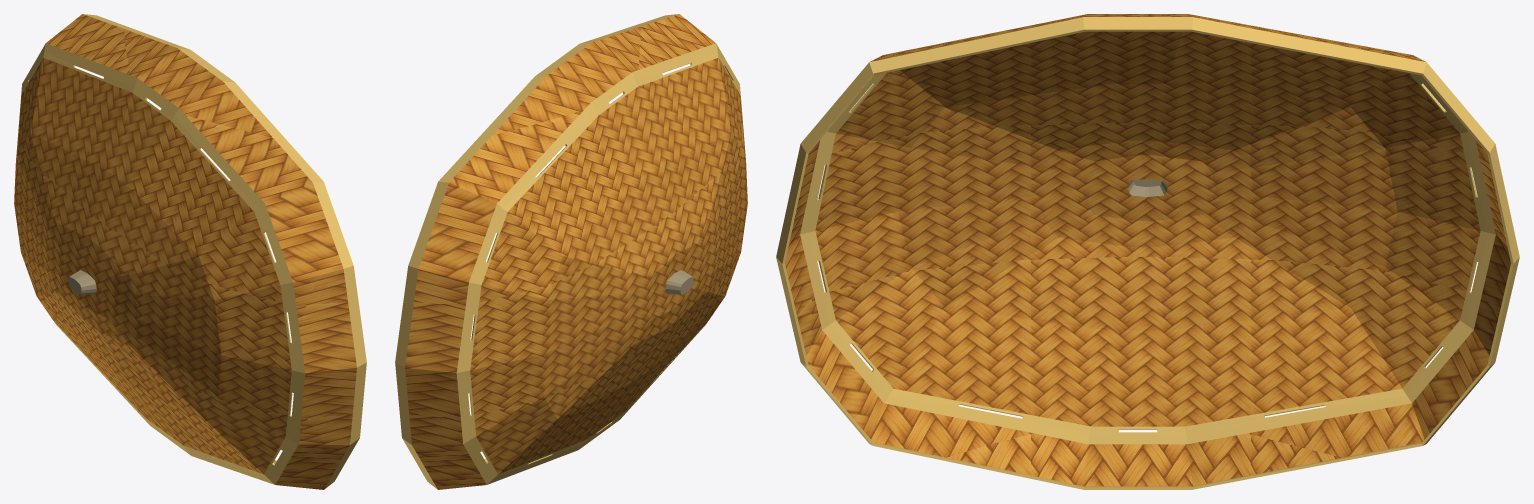
Rendered from tudung saji.fbx.
3 views of the same model, side by side, from view 1: azimuth 30°, elevation 25°; view 2: azimuth 150°, elevation 25°; view 3: azimuth 270°, elevation 25° (orthographic). The views are drawn at different scales.
Parts seen in each view (by area): view 1: tudung saji; view 2: tudung saji; view 3: tudung saji.
Part boxes in pixels (left/top/right/bottom): tudung saji: left=14, top=14, right=366, bottom=489; tudung saji: left=395, top=14, right=747, bottom=489; tudung saji: left=776, top=14, right=1519, bottom=489.
Size of the model in its own units: 42.58 by 106 by 153.
